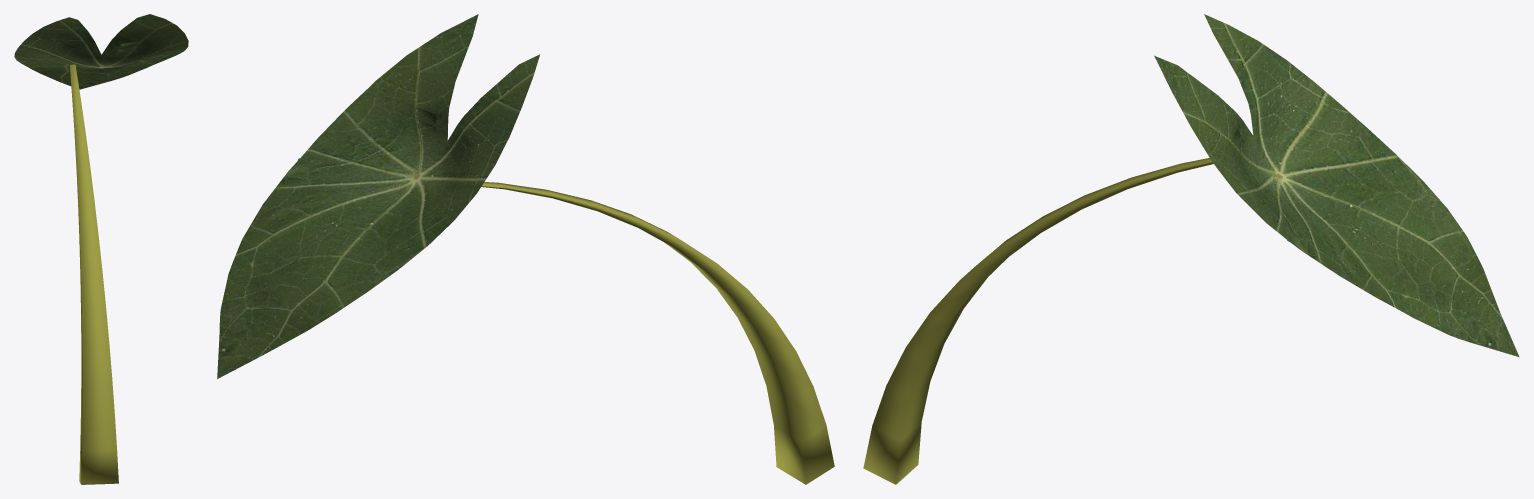
File: Leaf_6.dae
The picture shows the model from 3 angles, left to right: view 1: azimuth 30°, elevation 25°; view 2: azimuth 150°, elevation 25°; view 3: azimuth 270°, elevation 25°; orthographic projection. The views are drawn at different scales.
Visible parts, largest first — view 1: group_1, group_2; view 2: group_2, group_1; view 3: group_2, group_1.
Boxes of the visible parts, x1=… form: group_1: x1=69, y1=64, x2=118, y2=484; group_2: x1=14, y1=14, x2=188, y2=89; group_2: x1=217, y1=14, x2=539, y2=378; group_1: x1=481, y1=182, x2=834, y2=484; group_2: x1=1154, y1=14, x2=1519, y2=357; group_1: x1=863, y1=158, x2=1213, y2=484.
Size of the model in its own units: 6.4 by 10.1 by 8.75.
Materials: 2 (1 with a texture image).
